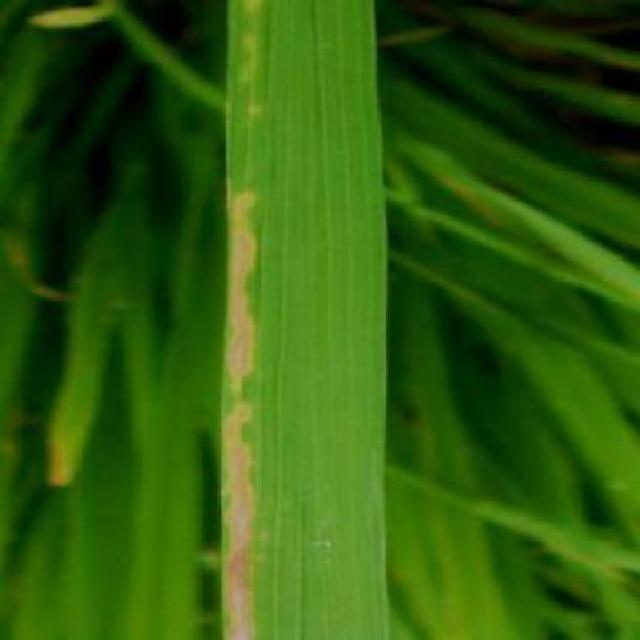Brown_Spot: (210, 0, 394, 638)
